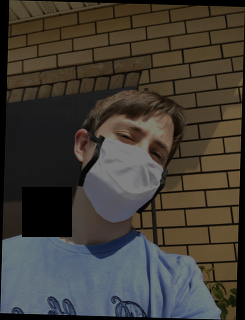with_mask: (74, 120, 174, 223)
